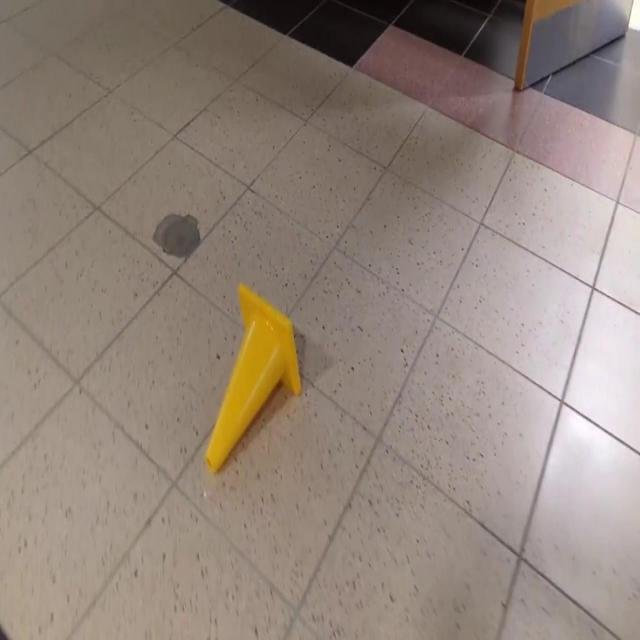frc_cone: (203, 280, 303, 476)
